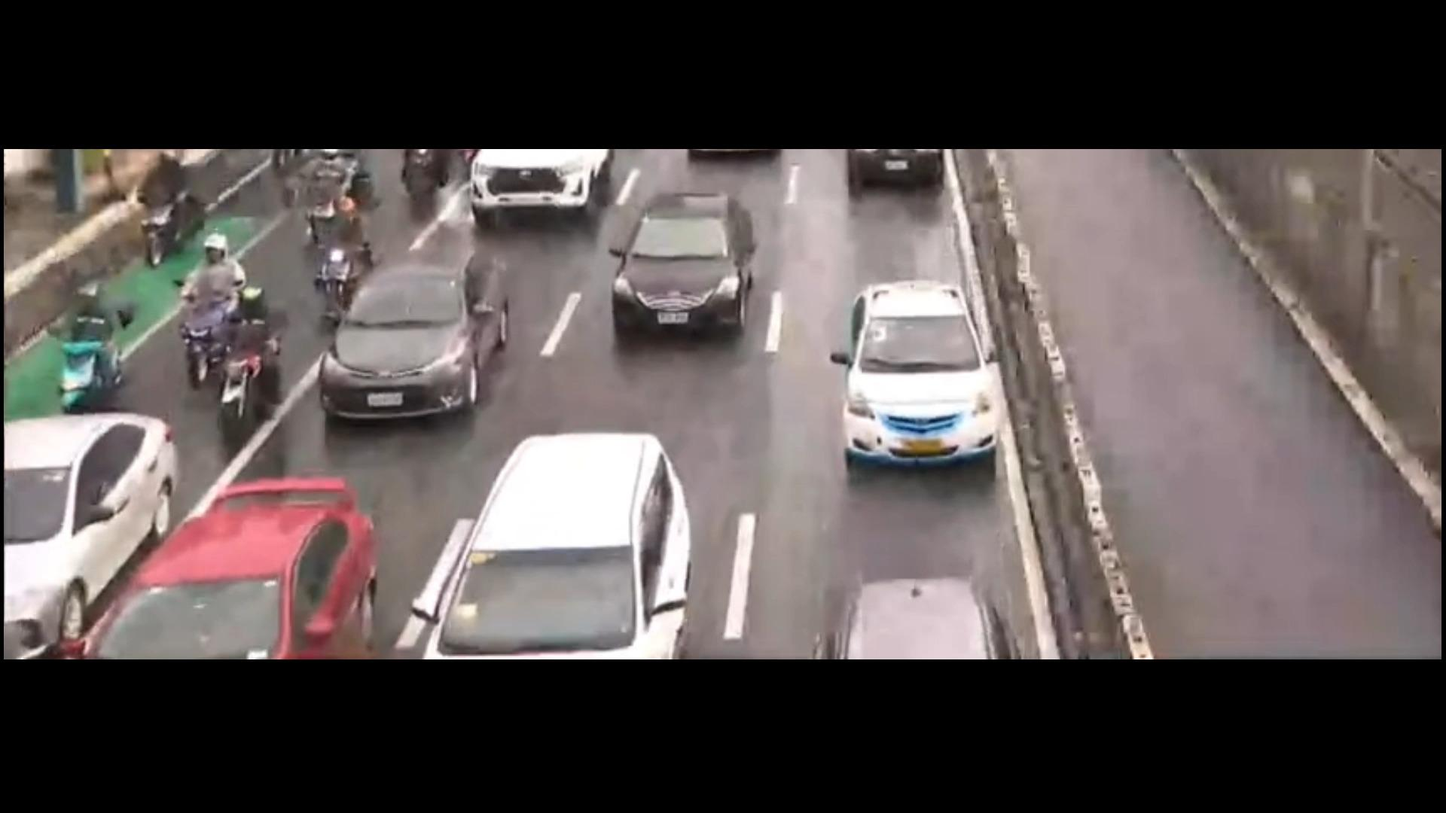Motorcycle: (155, 232, 258, 389), (201, 288, 298, 423), (45, 275, 140, 404), (122, 145, 221, 256), (311, 202, 392, 316), (299, 151, 366, 218), (385, 151, 443, 197)
SUV: (414, 407, 744, 663), (473, 149, 612, 226)
Sedan: (64, 460, 390, 658), (0, 405, 196, 660), (826, 255, 1012, 488), (317, 239, 524, 423), (585, 181, 780, 334)
